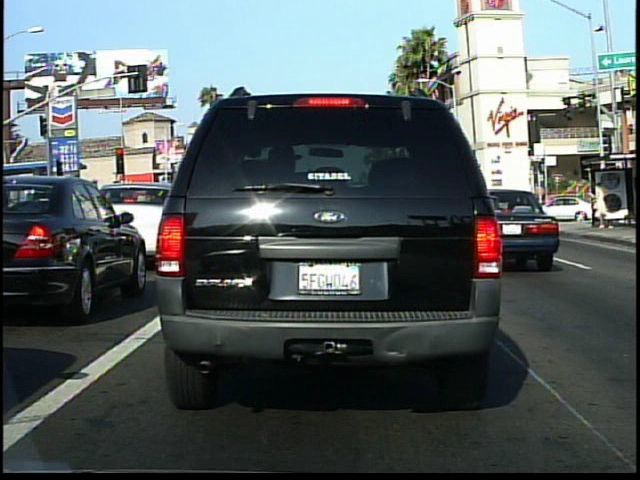person: (590, 176, 614, 232)
